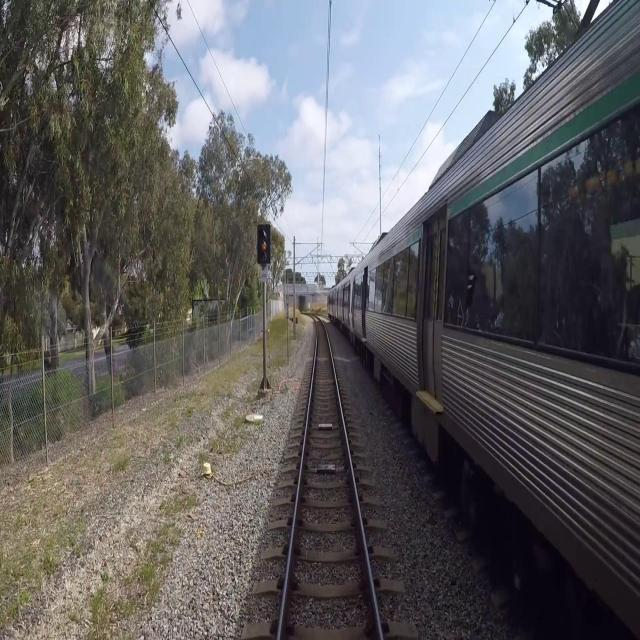rail-track: (281, 319, 378, 639)
